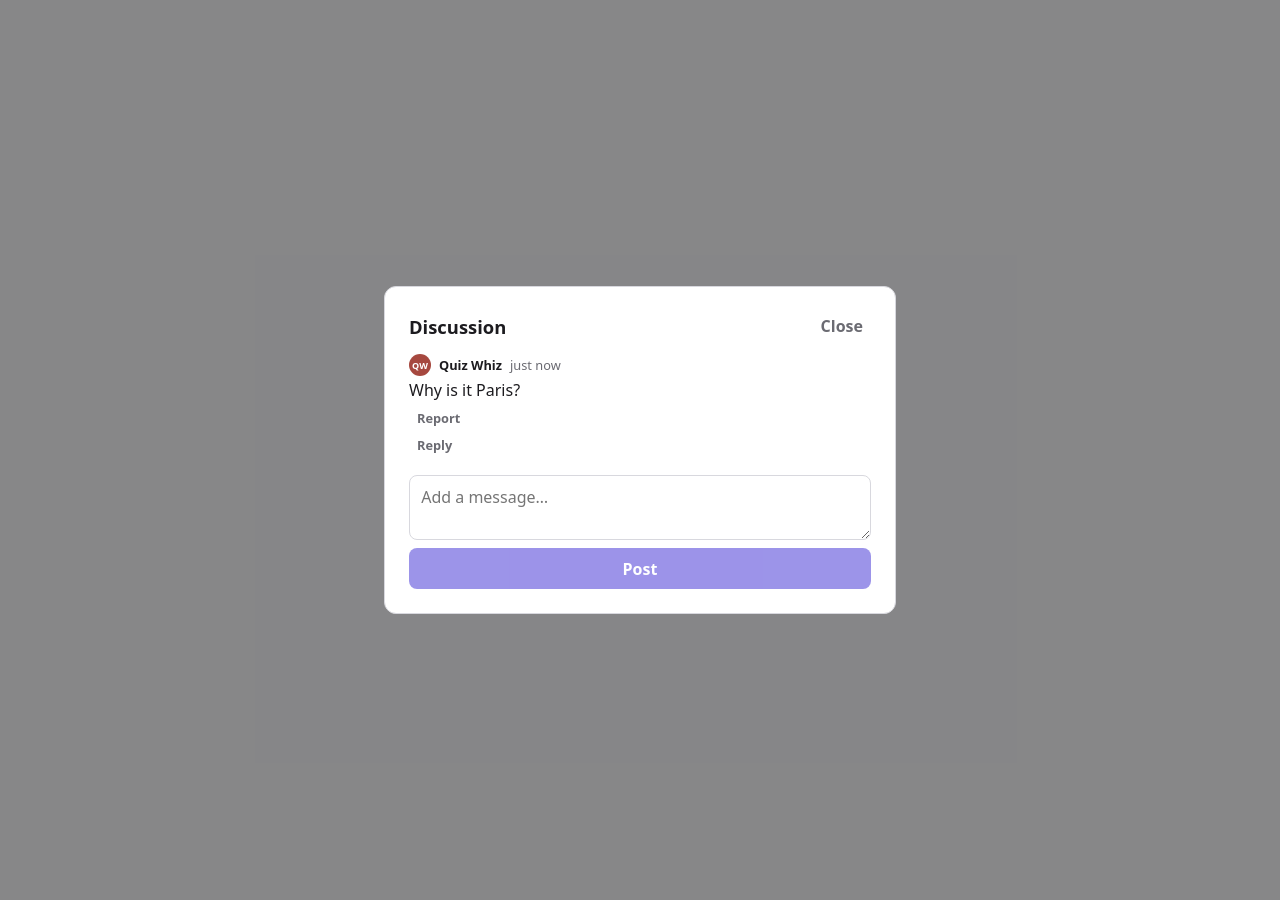
Scenario: DiscussionPanel › posts a message as a signed-in user and shows it
The width and height of the screenshot is (1280, 900).
Expected: the text "Why is it Paris?" is shown, [409,379,520,401]
Type "Because it is the capital." into the text box named "Your message".
click(640, 508); type("Because it is the capital.")  # box [409,475,871,540]
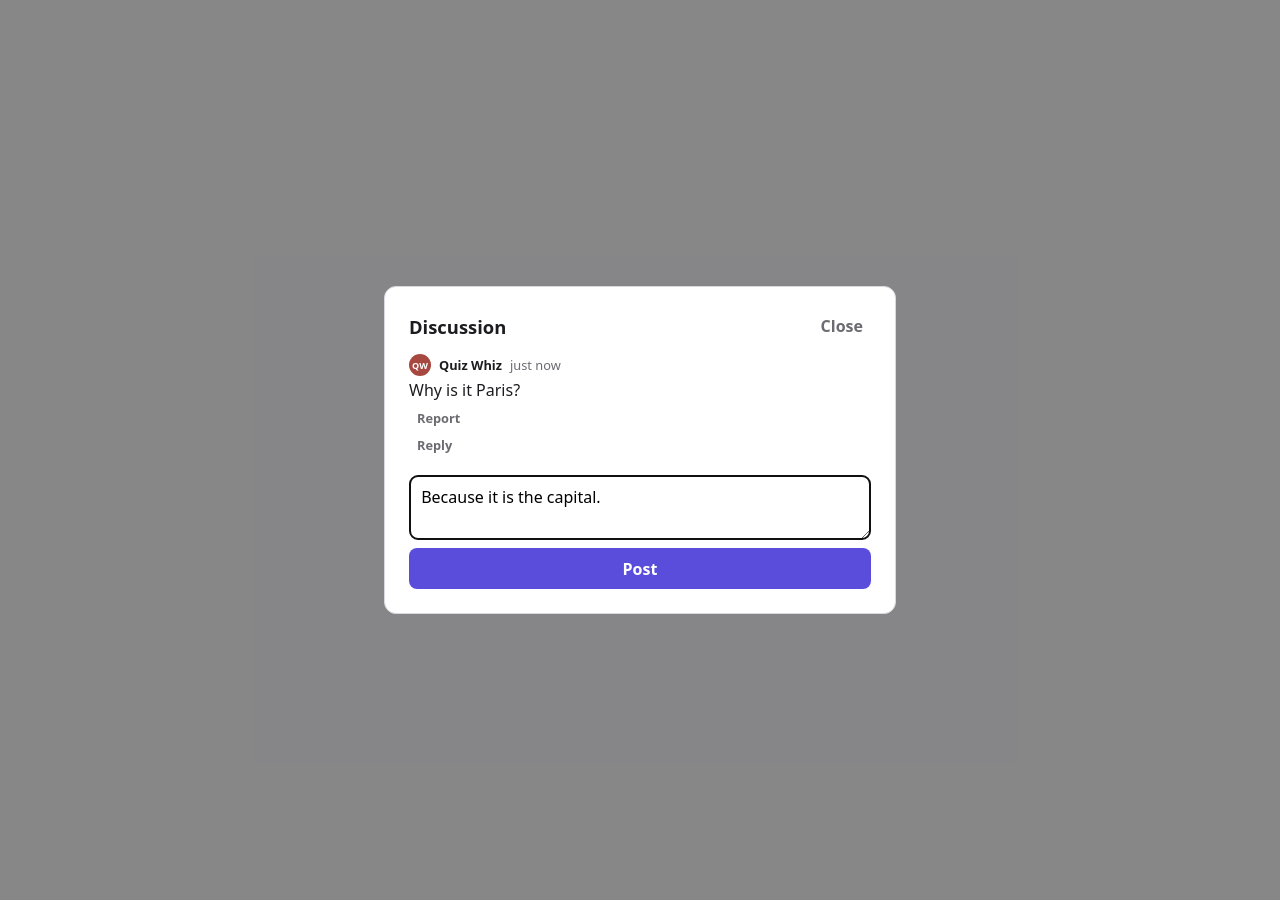
Click the button "Post".
click(640, 569)  # box [409,548,871,589]
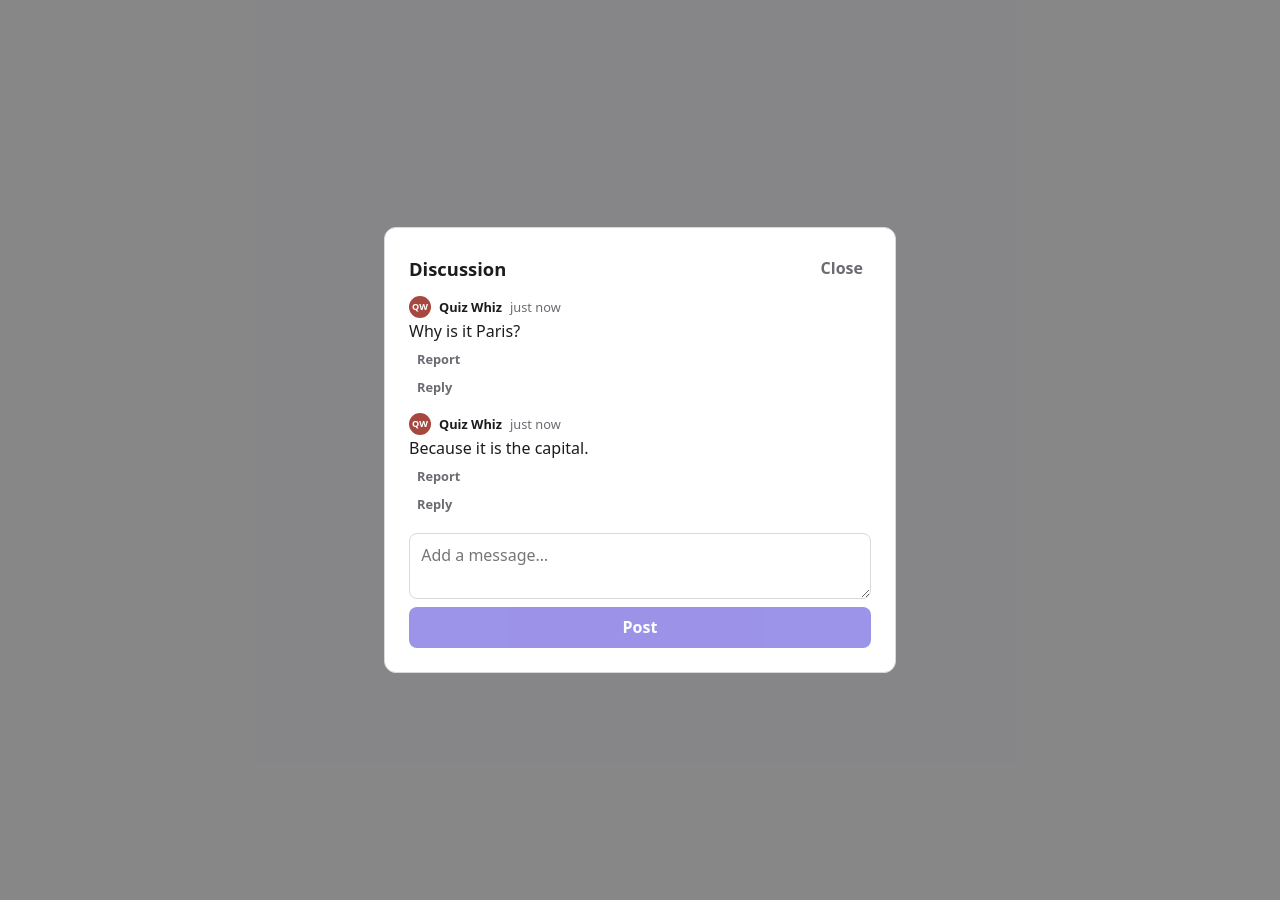
Now the text "Because it is the capital." is shown, box [409,437,588,459]
